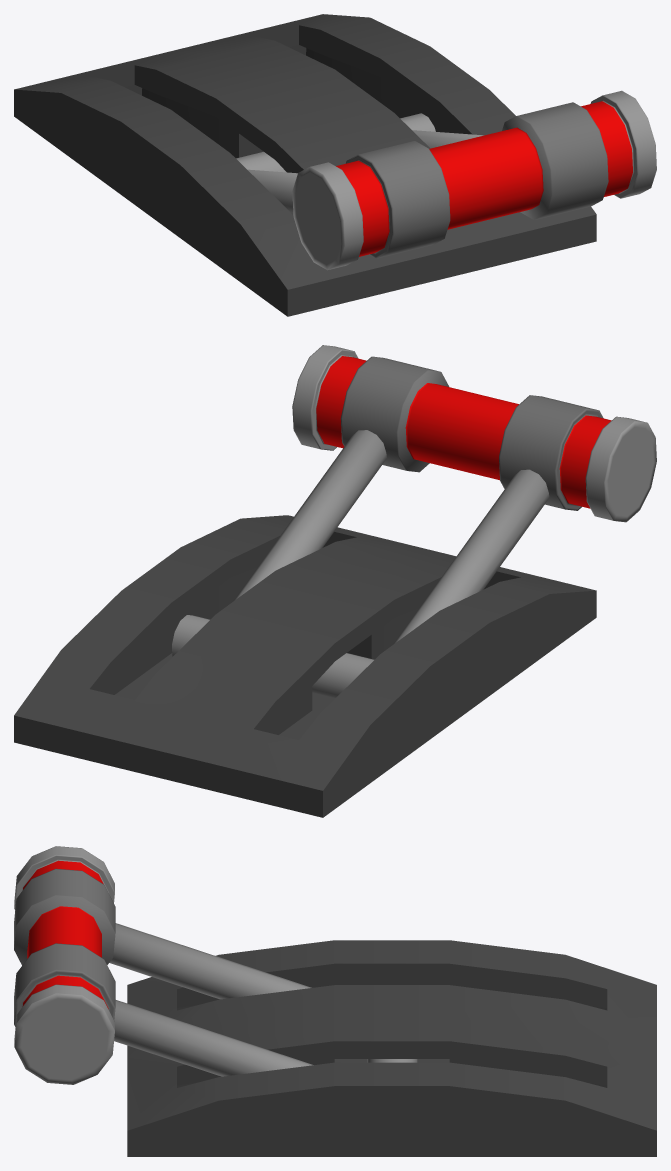
File: Lever.fbx
The picture shows the model from 3 angles, top to bottom: view 1: azimuth 30°, elevation 25°; view 2: azimuth 150°, elevation 25°; view 3: azimuth 270°, elevation 25°; orthographic projection. The views are drawn at different scales.
Visible parts, largest first — view 1: LevierBase, MancheLevier; view 2: LevierBase, MancheLevier; view 3: LevierBase, MancheLevier.
Part boxes in pixels (<box>): LevierBase: <box>14,14,596,316</box>; MancheLevier: <box>236,90,656,270</box>; LevierBase: <box>14,515,596,817</box>; MancheLevier: <box>172,345,656,698</box>; LevierBase: <box>127,940,656,1156</box>; MancheLevier: <box>14,846,417,1084</box>.
Bounding box in the file's own units: 22.03 × 12.3 × 40.56.
